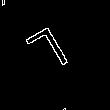L_SE: (25, 23, 78, 83)
